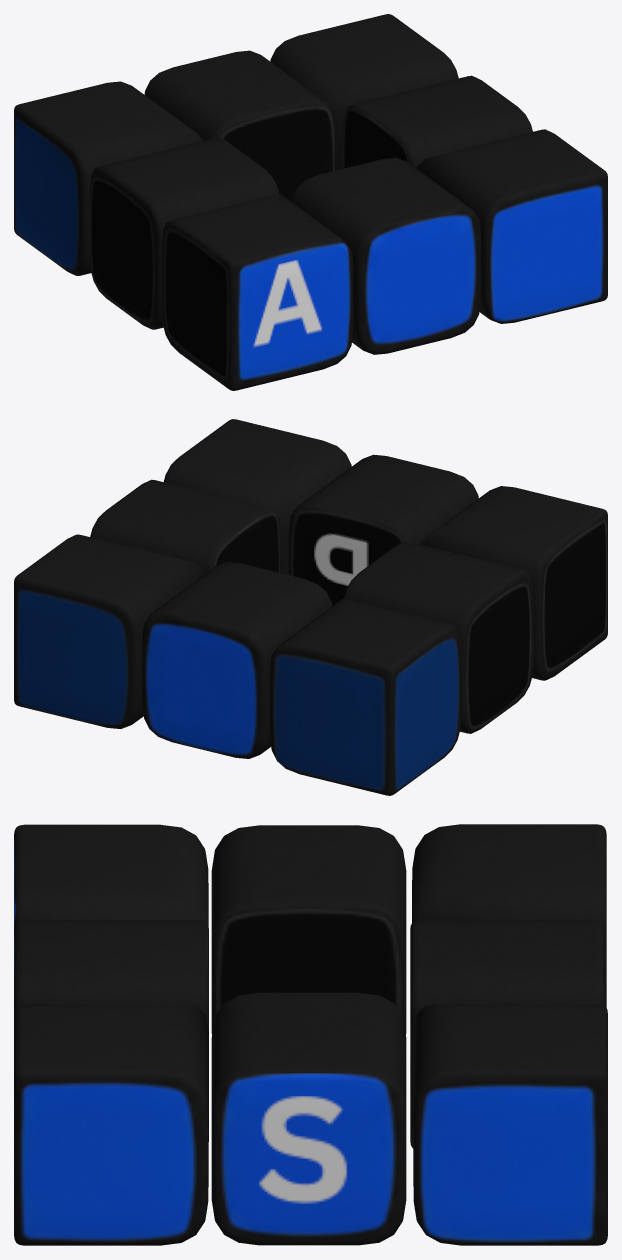
Rendered from rubic_2.glb.
The picture shows the model from 3 angles, top to bottom: view 1: azimuth 30°, elevation 25°; view 2: azimuth 150°, elevation 25°; view 3: azimuth 270°, elevation 25°; orthographic projection. The views are drawn at different scales.
Parts seen in each view (by area): view 1: Esquina_low011, Redondo_low004, Esquina_low010, Esquina_low017, Redondo_low006, Redondo_low007, Esquina_low014, Redondo_low005; view 2: Esquina_low017, Esquina_low014, Redondo_low007, Esquina_low011, Redondo_low006, Redondo_low004, Redondo_low005, Esquina_low010; view 3: Redondo_low005, Esquina_low010, Esquina_low014, Redondo_low006, Esquina_low017, Esquina_low011, Redondo_low007, Redondo_low004.
Part boxes in pixels (left/top/right/bottom): Esquina_low011: left=162, top=194, right=353, bottom=390; Redondo_low004: left=291, top=157, right=480, bottom=354; Esquina_low010: left=416, top=129, right=607, bottom=323; Esquina_low017: left=14, top=81, right=202, bottom=275; Redondo_low006: left=89, top=137, right=279, bottom=329; Redondo_low007: left=144, top=50, right=334, bottom=200; Esquina_low014: left=270, top=14, right=458, bottom=170; Redondo_low005: left=343, top=75, right=532, bottom=168; Esquina_low017: left=269, top=598, right=461, bottom=795; Esquina_low014: left=14, top=534, right=205, bottom=728; Redondo_low007: left=142, top=562, right=332, bottom=758; Esquina_low011: left=419, top=486, right=607, bottom=680; Redondo_low006: left=343, top=541, right=533, bottom=733; Redondo_low004: left=288, top=454, right=478, bottom=605; Redondo_low005: left=90, top=479, right=280, bottom=573; Esquina_low010: left=163, top=419, right=351, bottom=574; Redondo_low005: left=211, top=992, right=406, bottom=1245; Esquina_low010: left=14, top=1004, right=208, bottom=1245; Esquina_low014: left=413, top=1004, right=607, bottom=1245; Redondo_low006: left=211, top=825, right=406, bottom=1034; Esquina_low017: left=412, top=824, right=606, bottom=1007; Esquina_low011: left=14, top=824, right=208, bottom=1031; Redondo_low007: left=410, top=920, right=604, bottom=1148; Redondo_low004: left=14, top=920, right=208, bottom=1027.
Bounding box in the file's own units: 5.98 × 1.96 × 5.99.
1 material, 1 textured.
